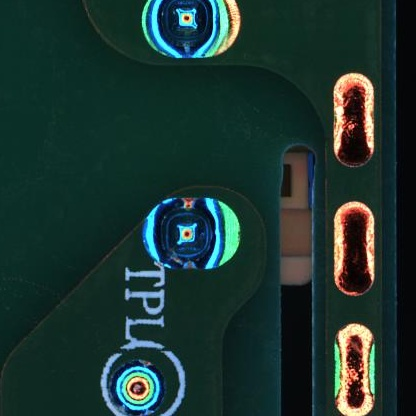spot: (142, 195, 240, 270), (141, 1, 241, 60), (111, 359, 166, 413)
